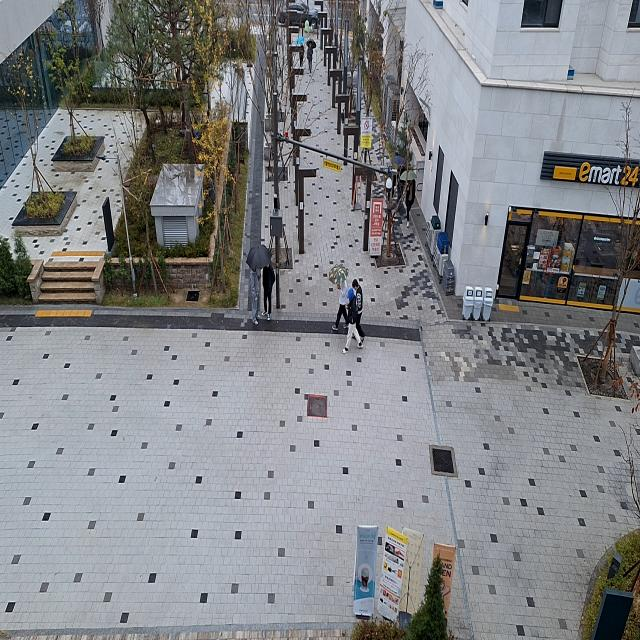Car: (273, 0, 322, 32)
